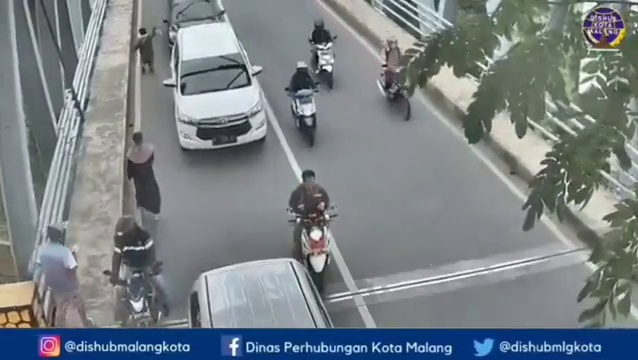car: (168, 25, 268, 154)
motorbike: (105, 216, 171, 334), (283, 169, 337, 293), (377, 37, 415, 126), (290, 54, 319, 149), (307, 21, 334, 92)
